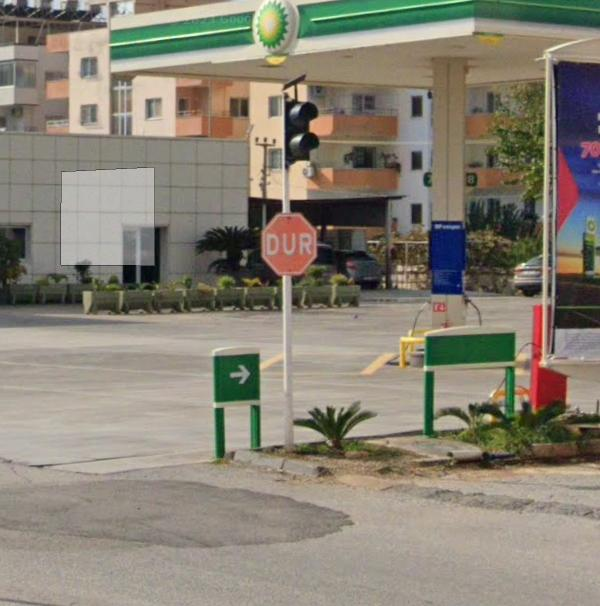stop: (266, 214, 321, 279)
